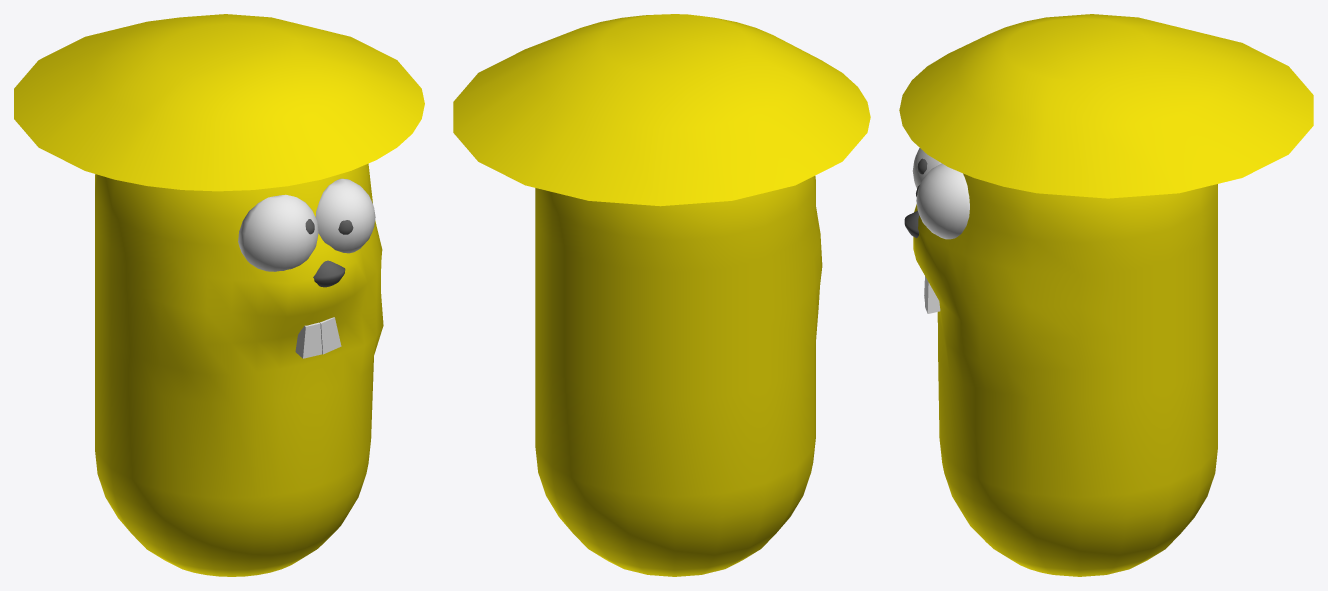
The model's file is moleGOUD2.fbx.
The picture shows the model from 3 angles, left to right: view 1: azimuth 30°, elevation 25°; view 2: azimuth 150°, elevation 25°; view 3: azimuth 270°, elevation 25°; orthographic projection.
Parts seen in each view (by area): view 1: Null.001, Null.002, Null.000; view 2: Null.001, Null.002; view 3: Null.001, Null.002.
Boxes of the visible parts, x1,y1,x2,y2 form: Null.001: [95, 163, 383, 576]; Null.002: [14, 14, 424, 191]; Null.000: [295, 317, 341, 358]; Null.001: [535, 176, 822, 576]; Null.002: [453, 14, 870, 206]; Null.001: [904, 148, 1217, 576]; Null.002: [899, 14, 1313, 198].
Size of the model in its own units: 149 by 194 by 148.
